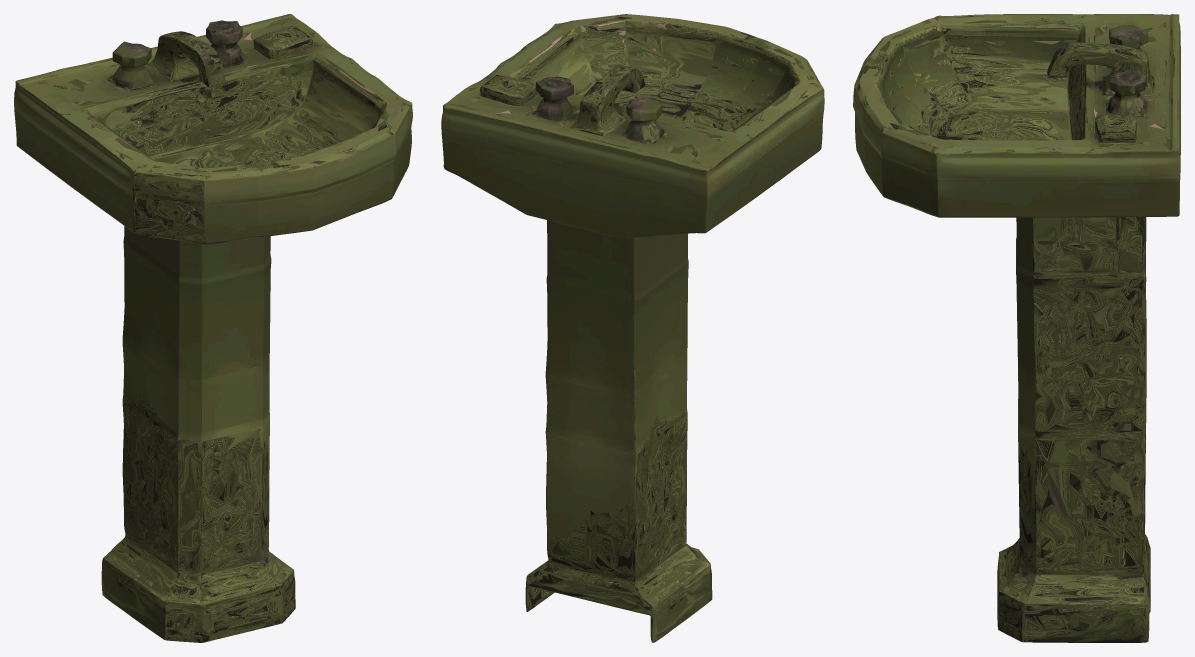
File: bathroom_sink_psx.glb
The picture shows the model from 3 angles, left to right: view 1: azimuth 30°, elevation 25°; view 2: azimuth 150°, elevation 25°; view 3: azimuth 270°, elevation 25°; orthographic projection. The views are drawn at different scales.
Visible parts, largest first — view 1: bathroom_sink_psx; view 2: bathroom_sink_psx; view 3: bathroom_sink_psx.
Boxes of the visible parts, box(x1,y1,x2,y2) form: bathroom_sink_psx: box(14, 14, 412, 642); bathroom_sink_psx: box(441, 14, 824, 642); bathroom_sink_psx: box(853, 14, 1180, 642).
Size of the model in its own units: 0.5596 by 1.05 by 0.5547.
Materials: 1 (1 with a texture image).
